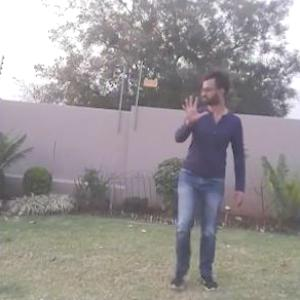follow_hand: (179, 92, 208, 124)
